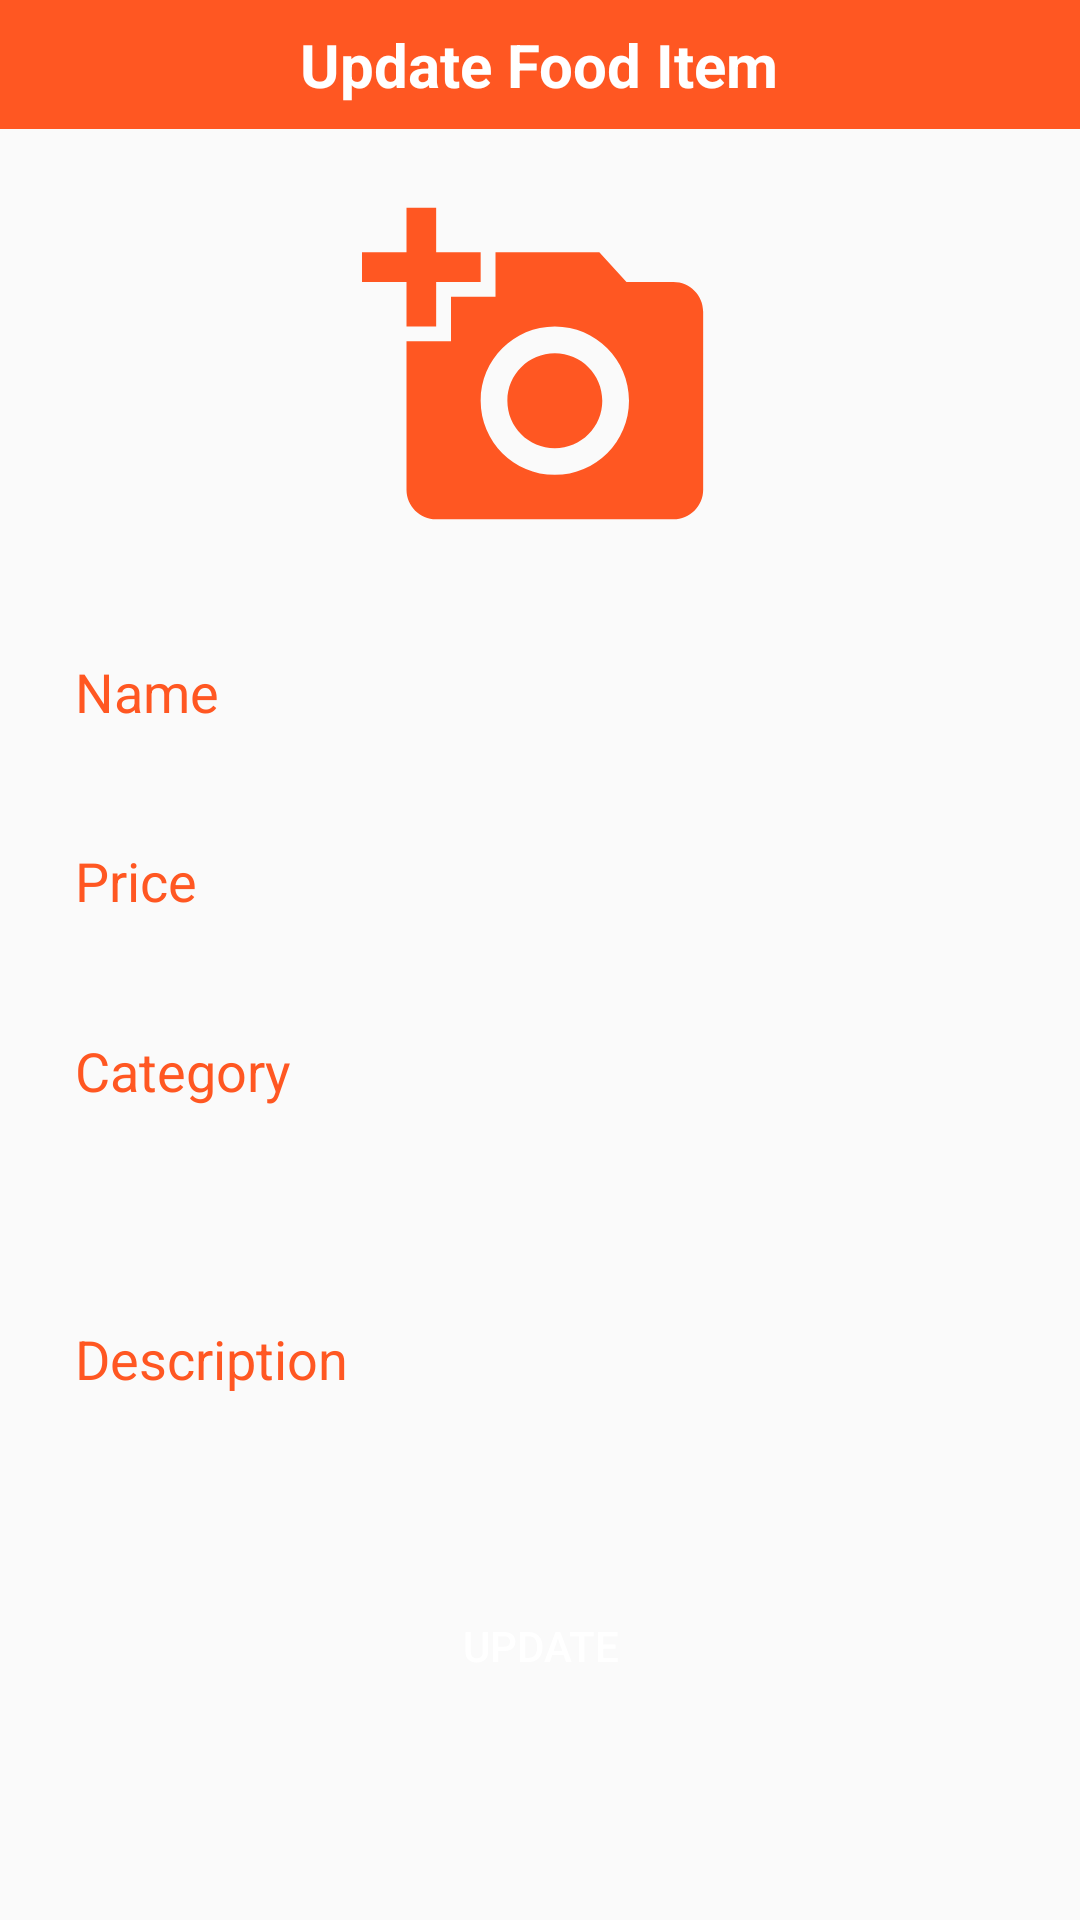

Where icons sit on this 1080w x 1920h app screen, as (x1, y1, x2, y2):
add photo: (362, 207, 704, 520)
